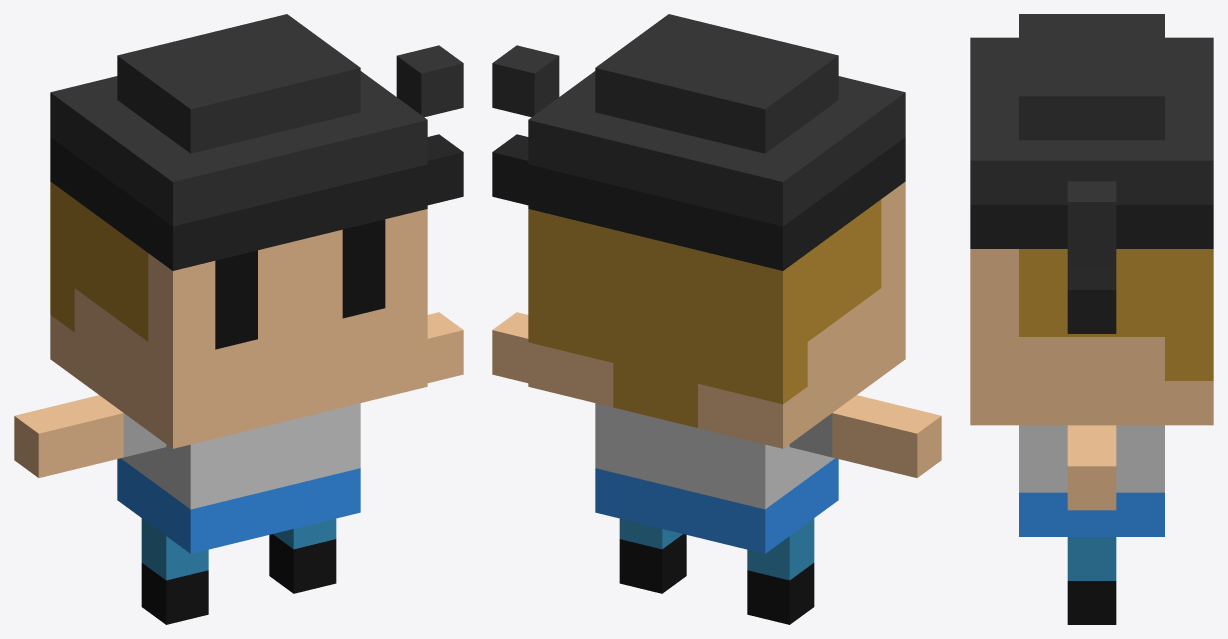
The picture shows the model from 3 angles, left to right: view 1: azimuth 30°, elevation 25°; view 2: azimuth 150°, elevation 25°; view 3: azimuth 270°, elevation 25°; orthographic projection.
Parts seen in each view (by area): view 1: Object_0; view 2: Object_0; view 3: Object_0.
Boxes of the visible parts, left/top/right/bottom form: Object_0: left=14, top=14, right=463, bottom=624; Object_0: left=492, top=14, right=941, bottom=624; Object_0: left=970, top=14, right=1213, bottom=624.
Bounding box in the file's own units: 1.33 × 1.6 × 0.6667.
1 material, 1 textured.
